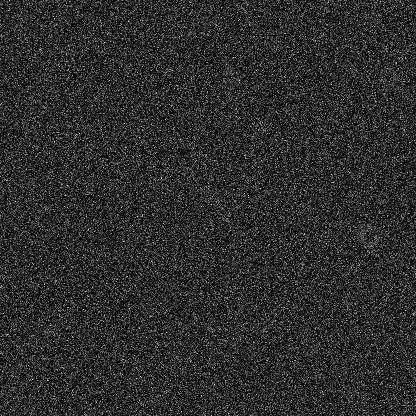Ring: (357, 223, 381, 247), (376, 64, 400, 88), (384, 55, 408, 79), (51, 32, 75, 56), (219, 66, 243, 90), (343, 386, 367, 410), (72, 126, 96, 150)
Spot: (41, 322, 57, 338), (249, 317, 265, 333)
